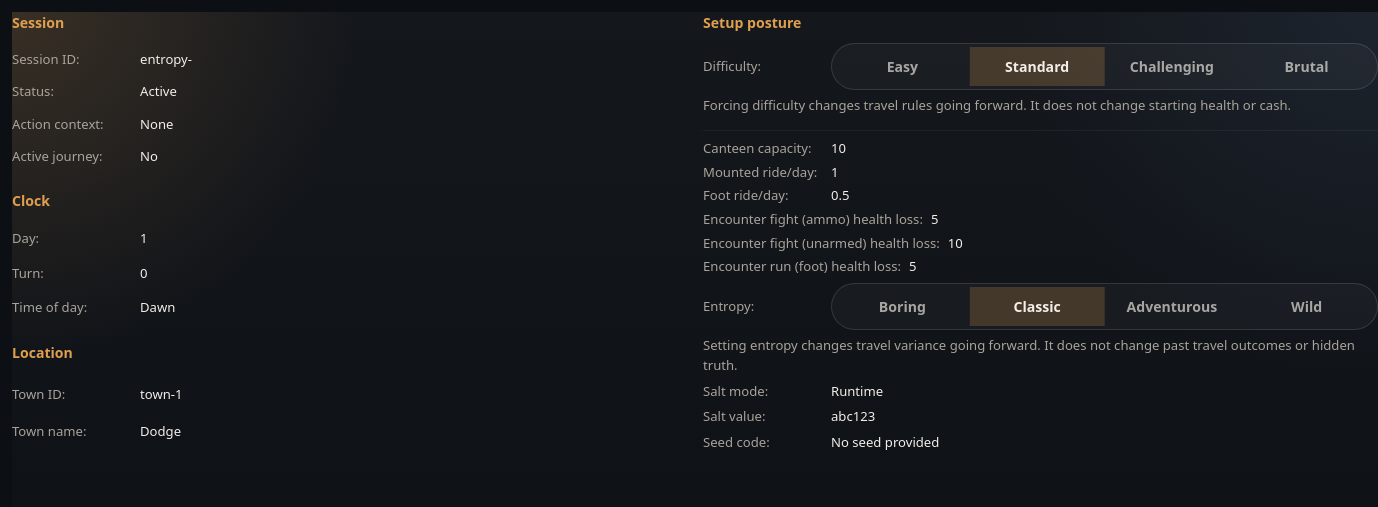
Test: SessionDevPanel › preserves the backend entropy after rejection and shows refreshed state after retry
Click the button "Wild".
click(1307, 307)  # box 1239,287 -> 1374,326
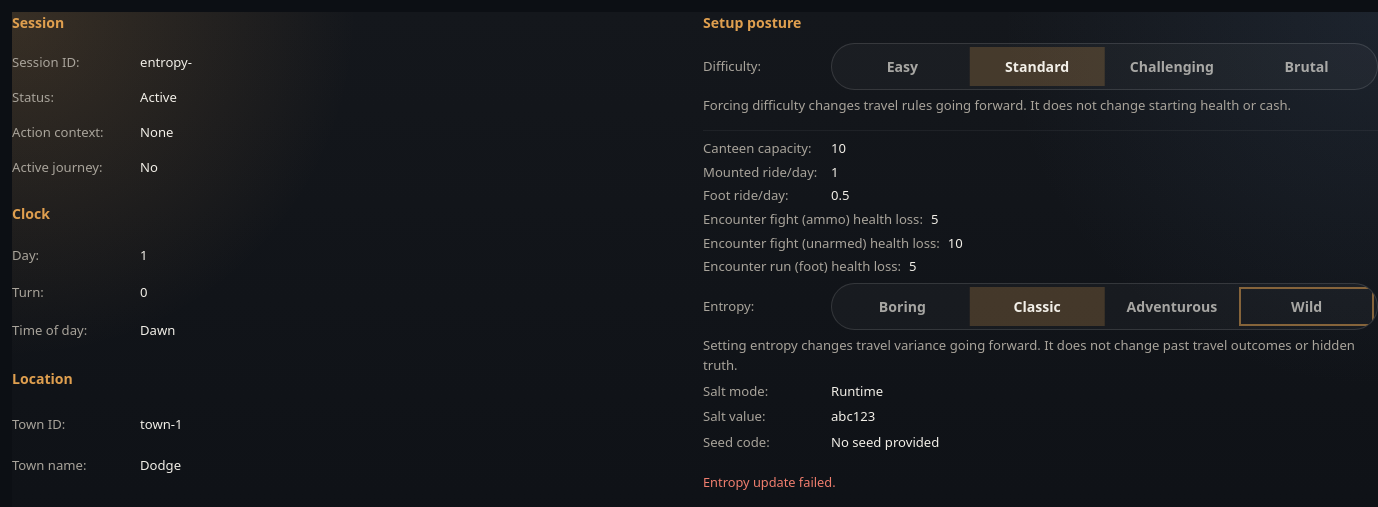
Expected: the text "Entropy update failed." is shown, 703,473 -> 836,491
Click the button "Wild".
click(1307, 307)  # box 1239,287 -> 1374,326
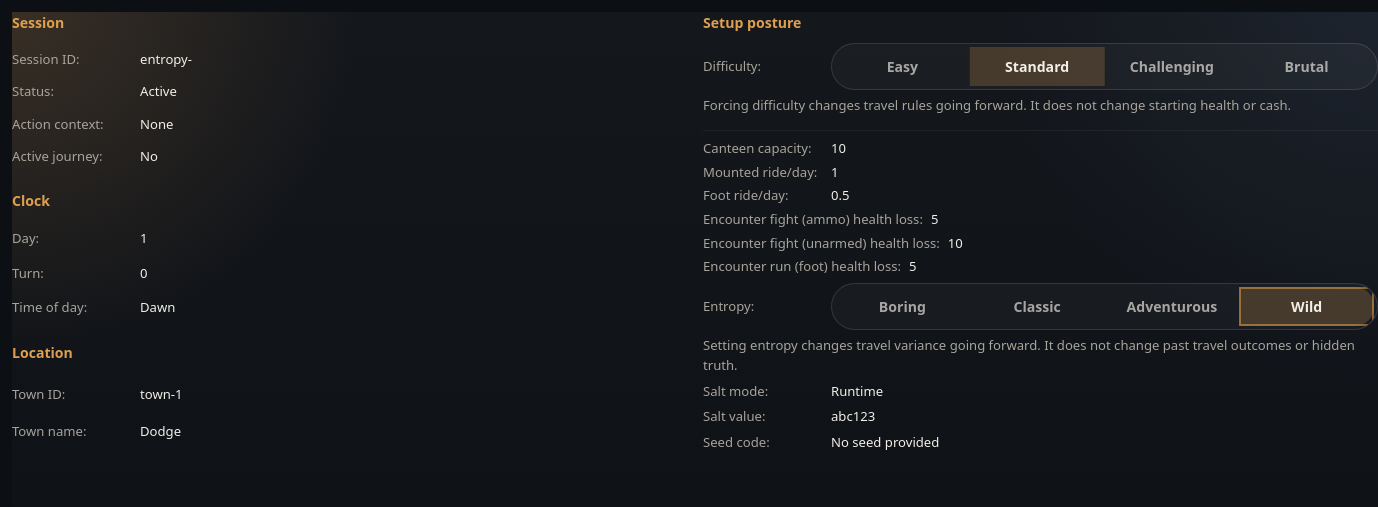
Expected: the text "Entropy update failed." is gone
